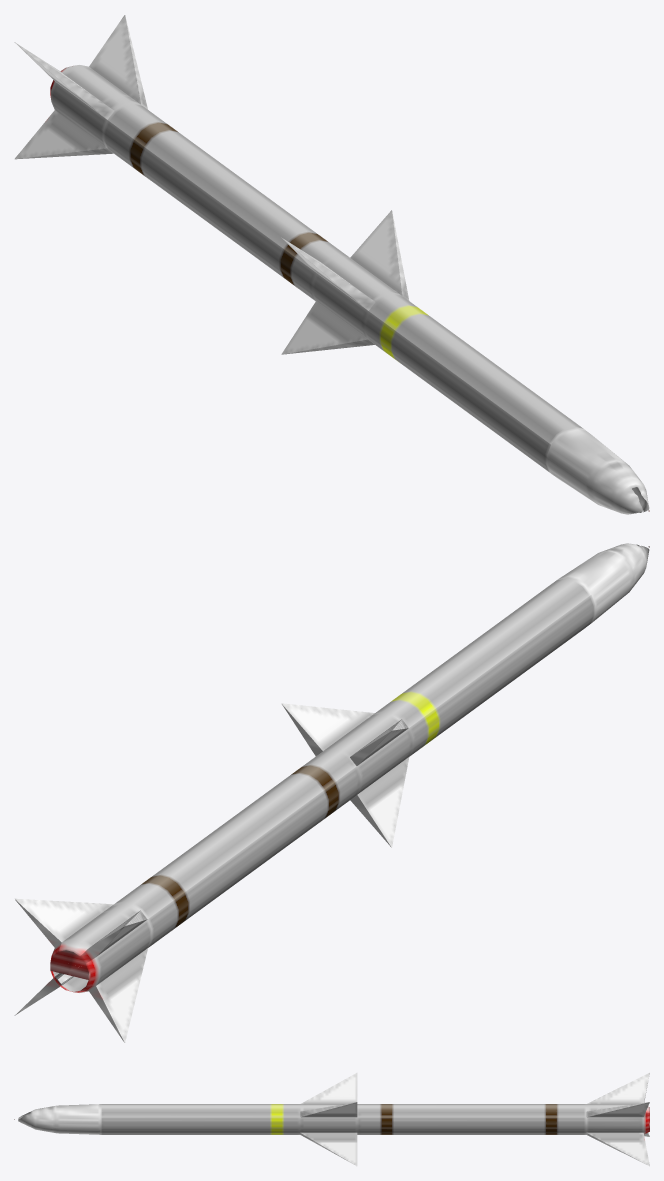
Rendered from misairu_obj.fbx.
3 views of the same model, one above another, from view 1: azimuth 30°, elevation 25°; view 2: azimuth 150°, elevation 25°; view 3: azimuth 270°, elevation 25° (orthographic). The views are drawn at different scales.
Visible parts, largest first — view 1: pCube2; view 2: pCube2; view 3: pCube2.
Part boxes in pixels (<box>): pCube2: <box>14,15,649,514</box>; pCube2: <box>14,543,649,1042</box>; pCube2: <box>14,1073,649,1166</box>.
Bounding box in the file's own units: 40.39 × 40.94 × 365.
